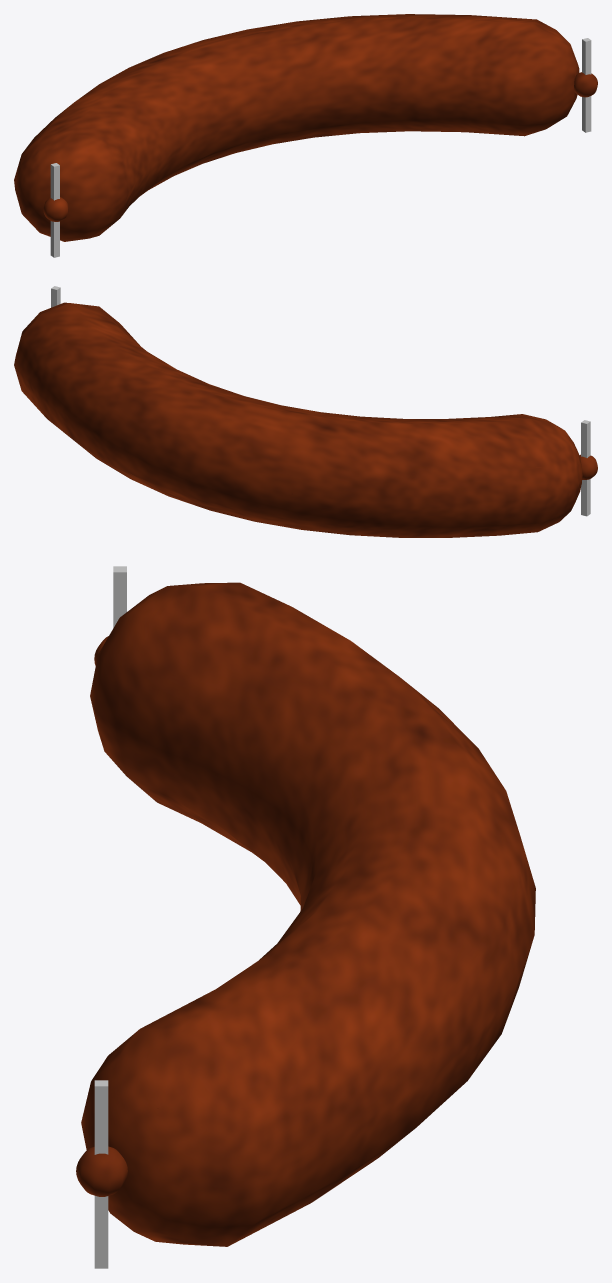
File: sausage.fbx
The picture shows the model from 3 angles, top to bottom: view 1: azimuth 30°, elevation 25°; view 2: azimuth 150°, elevation 25°; view 3: azimuth 270°, elevation 25°; orthographic projection. The views are drawn at different scales.
Visible parts, largest first — view 1: Sausage, stick2, stick1; view 2: Sausage, stick2; view 3: Sausage, stick1.
Part boxes in pixels (x1,y1,x2,y2): Sausage: (14,14,597,241); stick2: (50,163,59,257); stick1: (582,38,591,132); Sausage: (14,302,597,537); stick2: (581,420,590,516); Sausage: (76,582,535,1246); stick1: (94,1080,108,1268).
Bounding box in the file's own units: 353 × 65.57 × 128.
